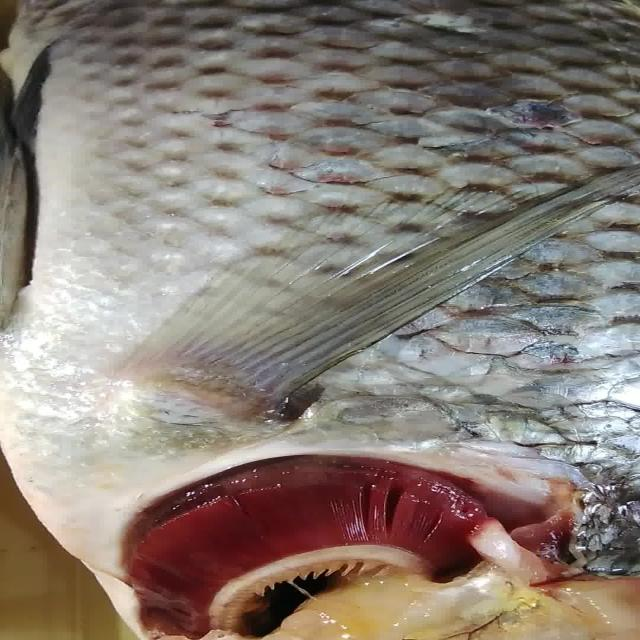Fresh: (86, 450, 543, 618)
